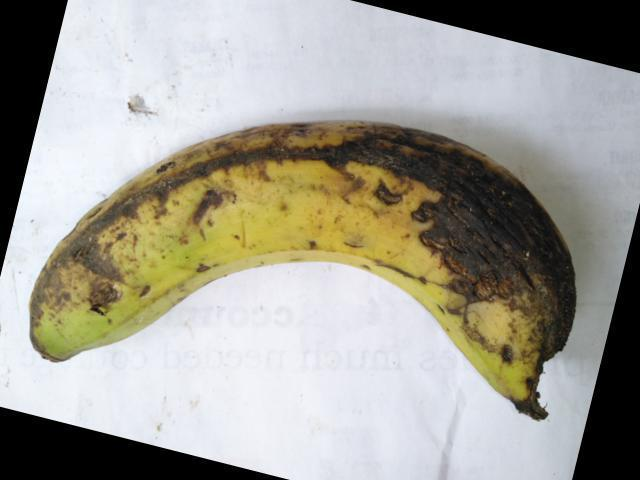rotten: (22, 91, 580, 409)
